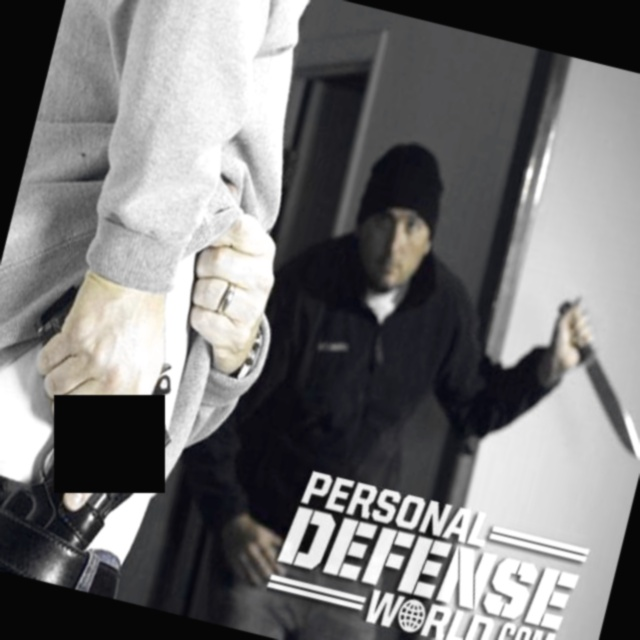gun: (0, 263, 207, 581), (513, 282, 640, 500)
